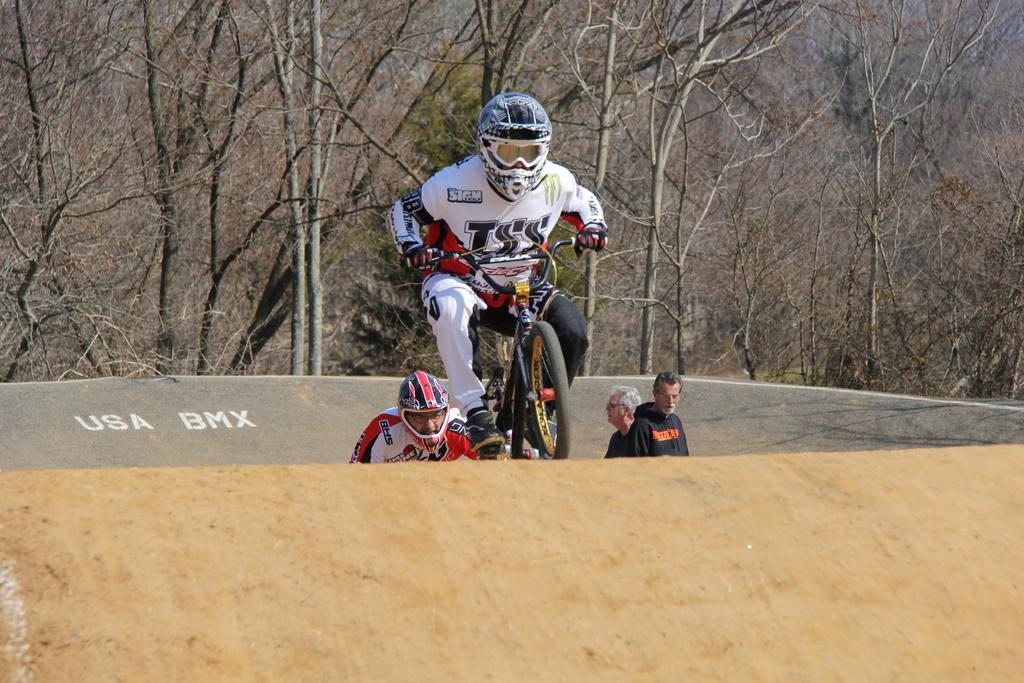helmet: (476, 92, 553, 201), (397, 370, 450, 453)
nohelmet: (604, 385, 642, 427), (652, 371, 684, 417)
